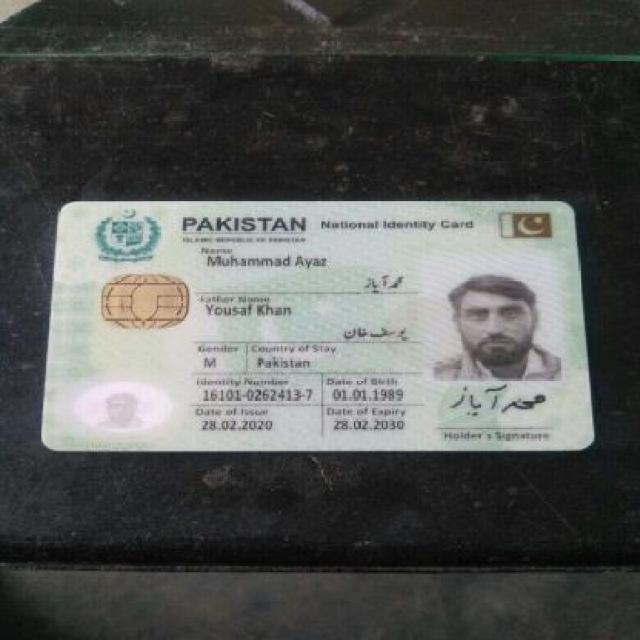Front: (43, 194, 595, 458)
